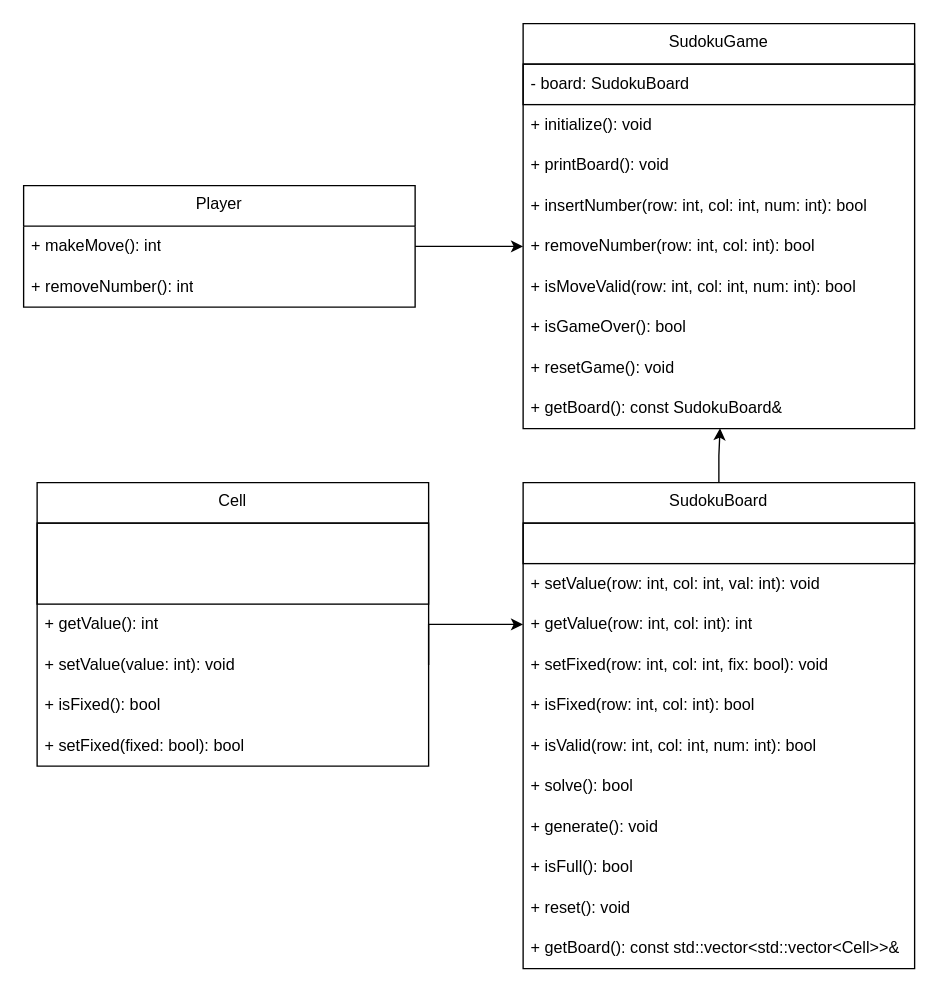
Image size: 938x992. Some labels were removed from this diagram. Here are the shapes that lost their labels. From the top down, the centre of each, then its label:
the point at 232,563: - value: int - fixed: bool
the point at 718,543: - cells: Cell[9][9]
